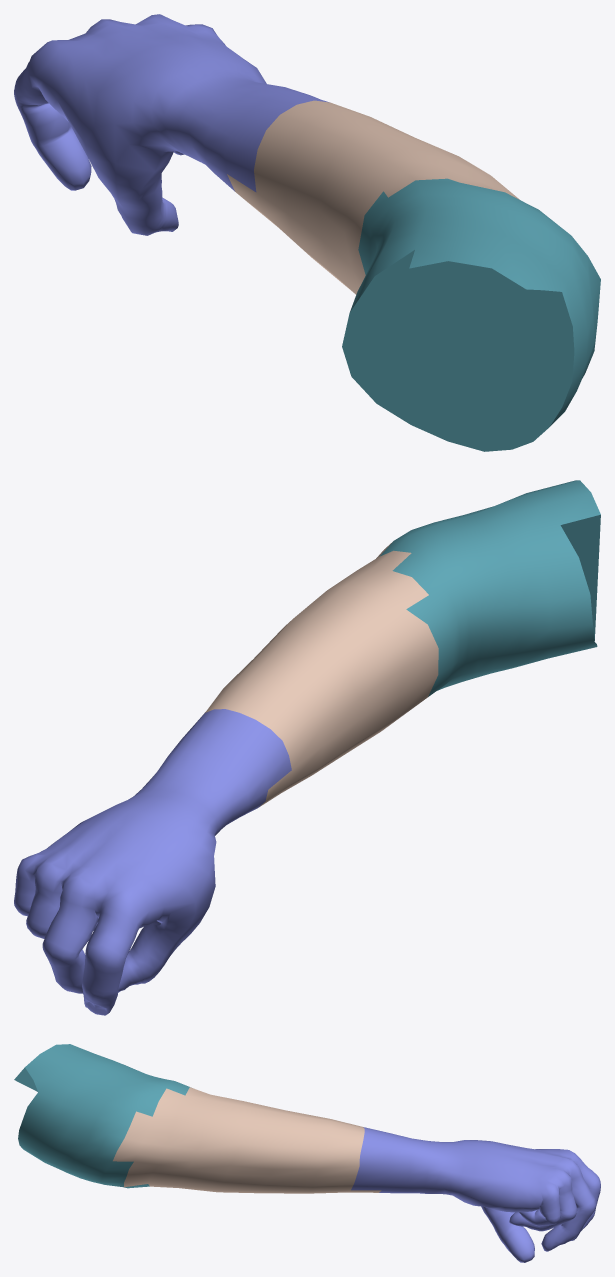
The model's file is main_pince.glb.
3 renders of one model, top to bottom at view 1: azimuth 30°, elevation 25°; view 2: azimuth 150°, elevation 25°; view 3: azimuth 270°, elevation 25°, orthographic. The views are drawn at different scales.
Visible parts, largest first — view 1: main_pince; view 2: main_pince; view 3: main_pince.
Part boxes in pixels (x1=…): main_pince: x1=14, y1=14, x2=600, y2=451; main_pince: x1=14, y1=480, x2=600, y2=1015; main_pince: x1=14, y1=1044, x2=600, y2=1262.
Bounding box in the file's own units: 0.1544 × 0.1679 × 0.5075.
